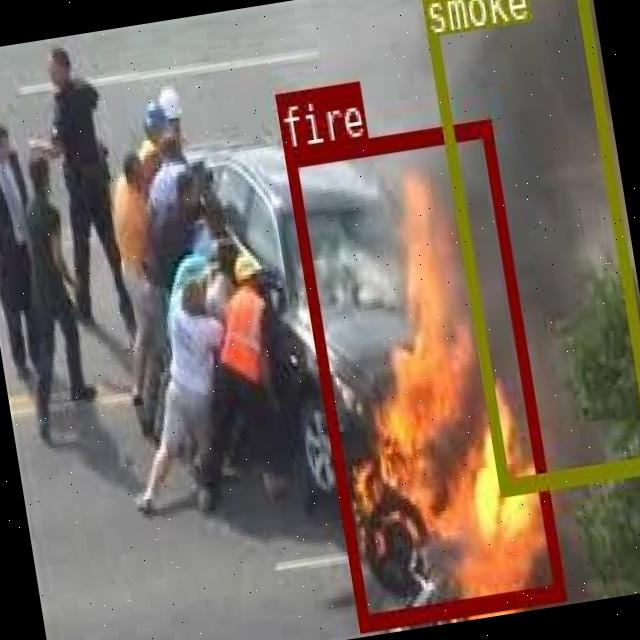fire: (282, 118, 564, 630)
smoke: (418, 0, 640, 495)
